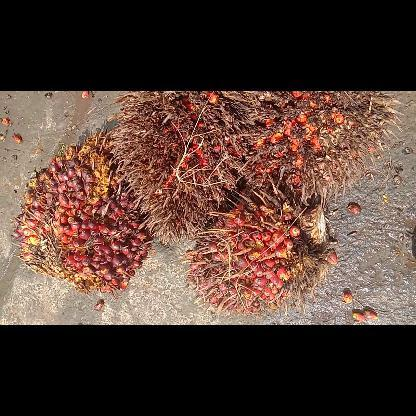TBS masak: (9, 129, 155, 296), (182, 183, 338, 315)
Terlalu masak: (105, 90, 261, 246), (244, 91, 406, 204)
